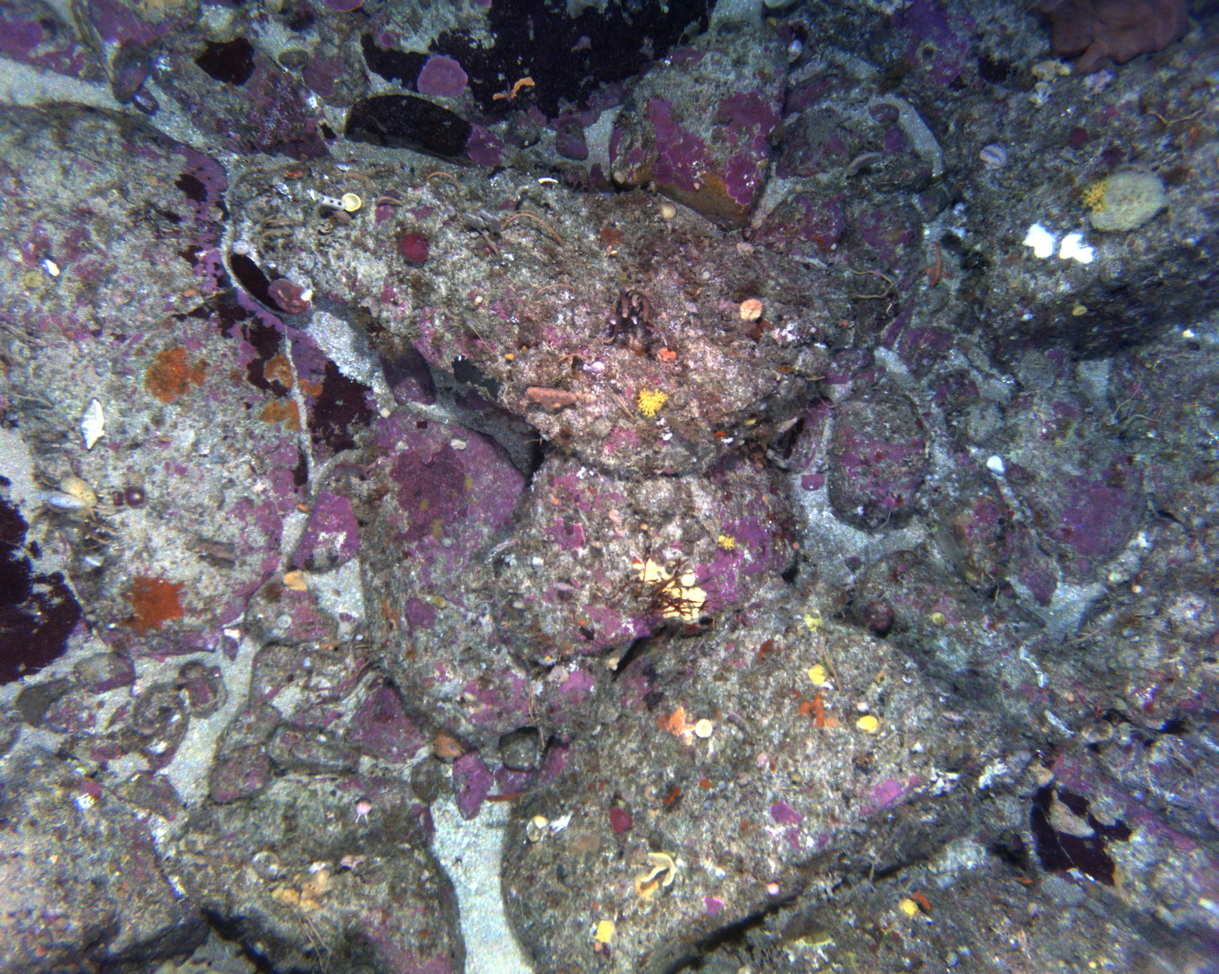Brachionichthyidae: (919, 240, 950, 289)
